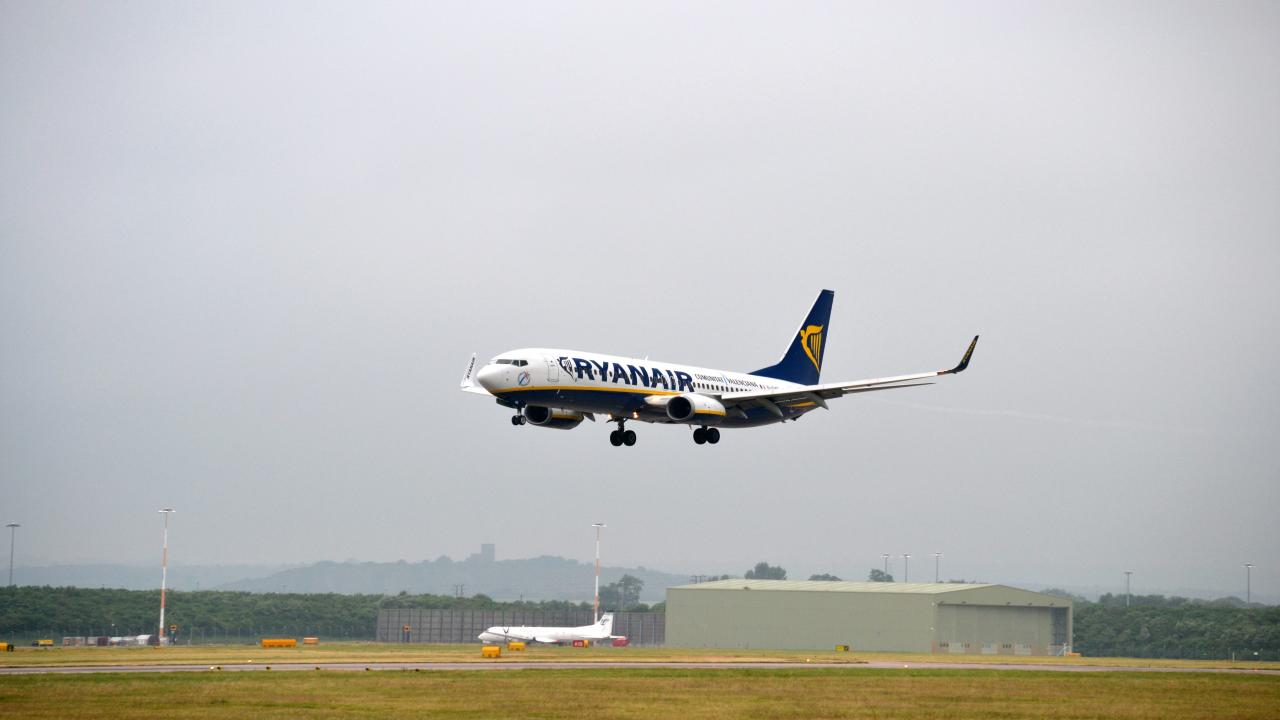Airplane: (448, 280, 1003, 452)
